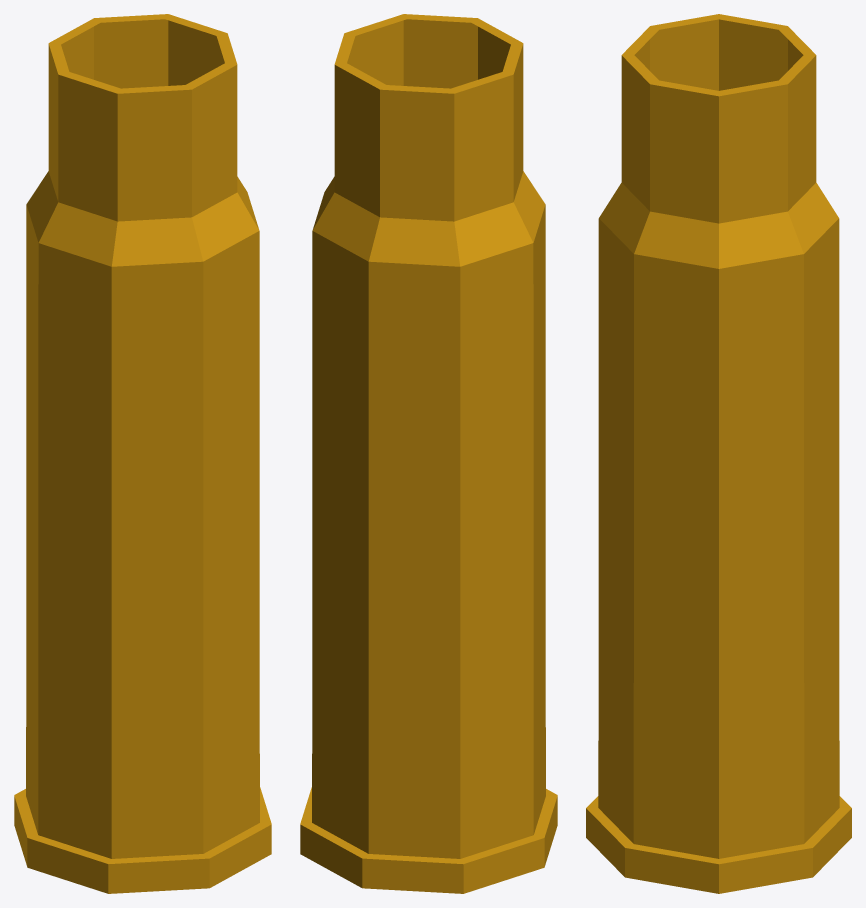
The picture shows the model from 3 angles, left to right: view 1: azimuth 30°, elevation 25°; view 2: azimuth 150°, elevation 25°; view 3: azimuth 270°, elevation 25°; orthographic projection.
Visible parts, largest first — view 1: Bullet; view 2: Bullet; view 3: Bullet.
Part boxes in pixels (box(x1,y1,x2,y2)): Bullet: box(14, 14, 271, 893); Bullet: box(300, 14, 557, 893); Bullet: box(586, 14, 851, 893).
Bounding box in the file's own units: 31.87 × 104 × 31.87.
